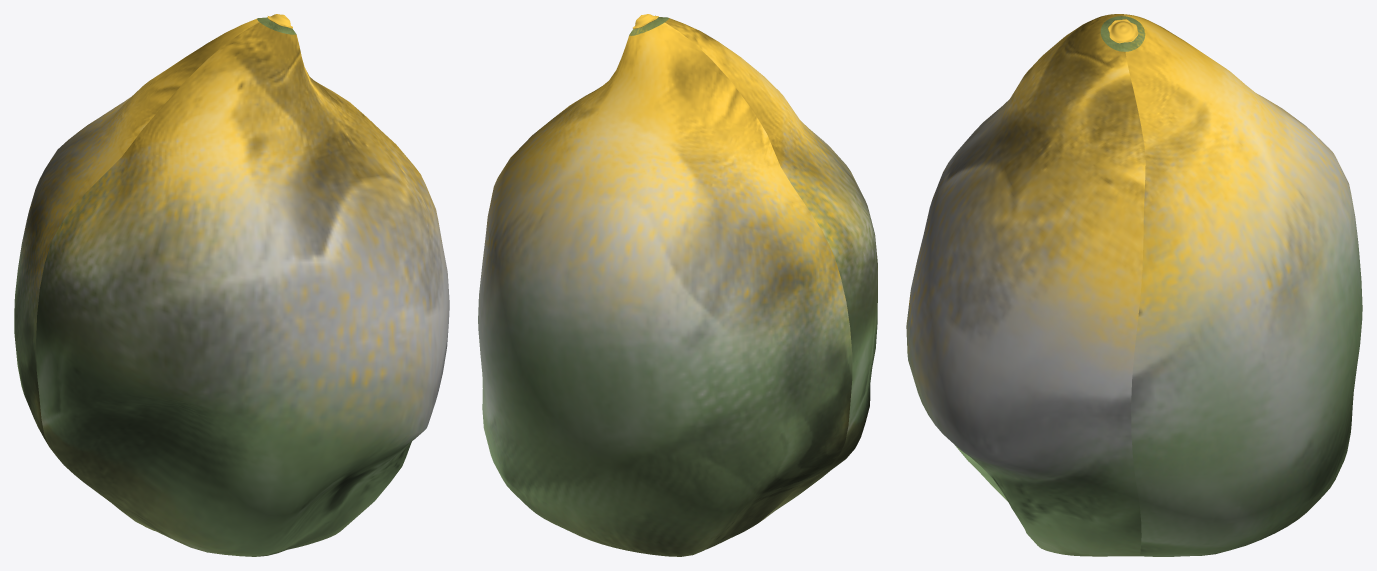
The model's file is mCitronP2Outline.FBX.
The picture shows the model from 3 angles, left to right: view 1: azimuth 30°, elevation 25°; view 2: azimuth 150°, elevation 25°; view 3: azimuth 270°, elevation 25°; orthographic projection. The views are drawn at different scales.
Parts seen in each view (by area): view 1: Citron_Negatif_02_OUTLINE; view 2: Citron_Negatif_02_OUTLINE; view 3: Citron_Negatif_02_OUTLINE.
Part boxes in pixels (x1,y1,x2,y2): Citron_Negatif_02_OUTLINE: (14, 14, 449, 556); Citron_Negatif_02_OUTLINE: (478, 14, 877, 556); Citron_Negatif_02_OUTLINE: (906, 14, 1362, 556).
Size of the model in its own units: 1.46 by 1.89 by 1.48.
